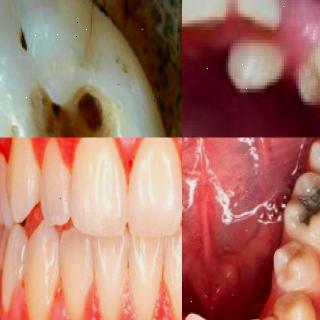cavities: (32, 93, 116, 137), (17, 28, 31, 50)
maligned: (221, 41, 289, 101), (239, 0, 287, 32), (187, 310, 234, 320)
plaque: (3, 290, 182, 320), (8, 138, 182, 168)
